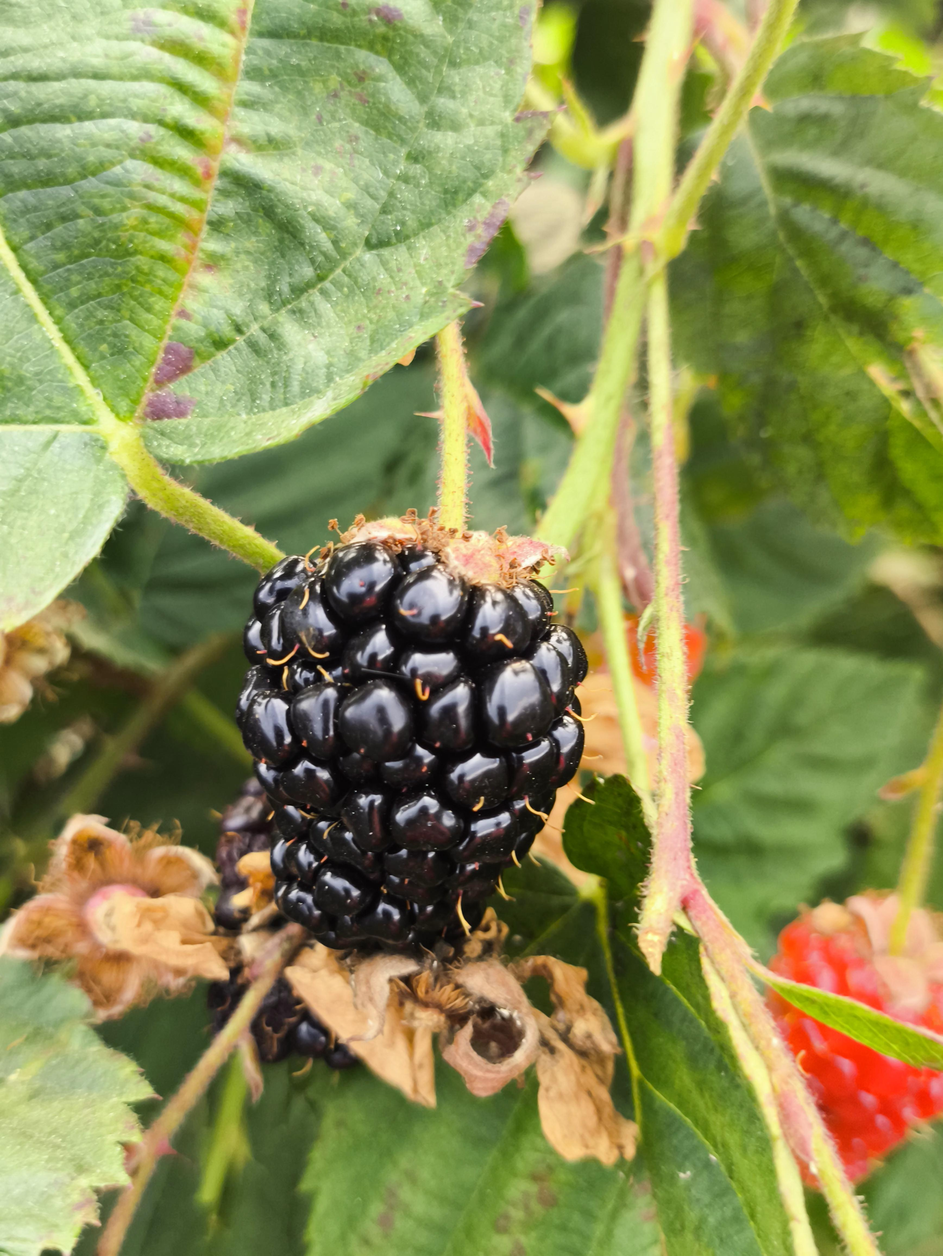maduro: (240, 534, 589, 952)
